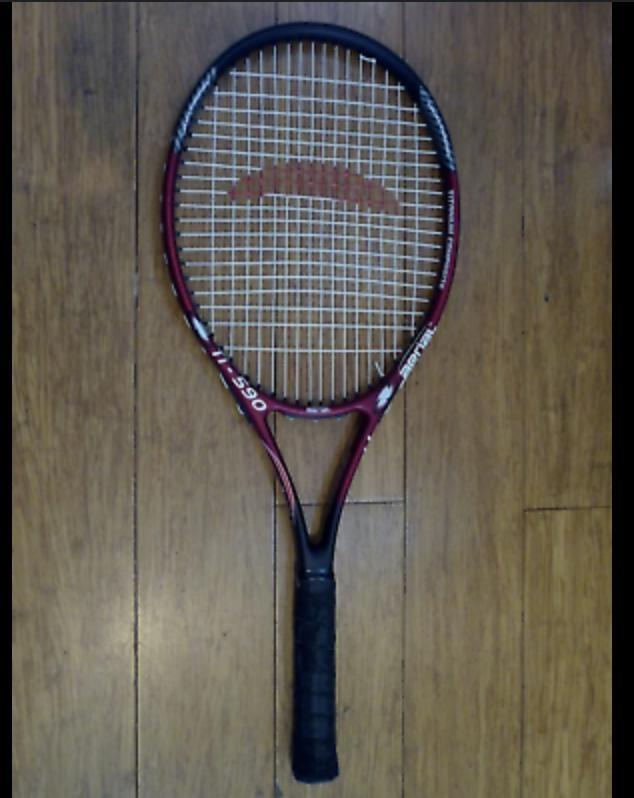Tennis-Racket: (164, 22, 459, 782)
